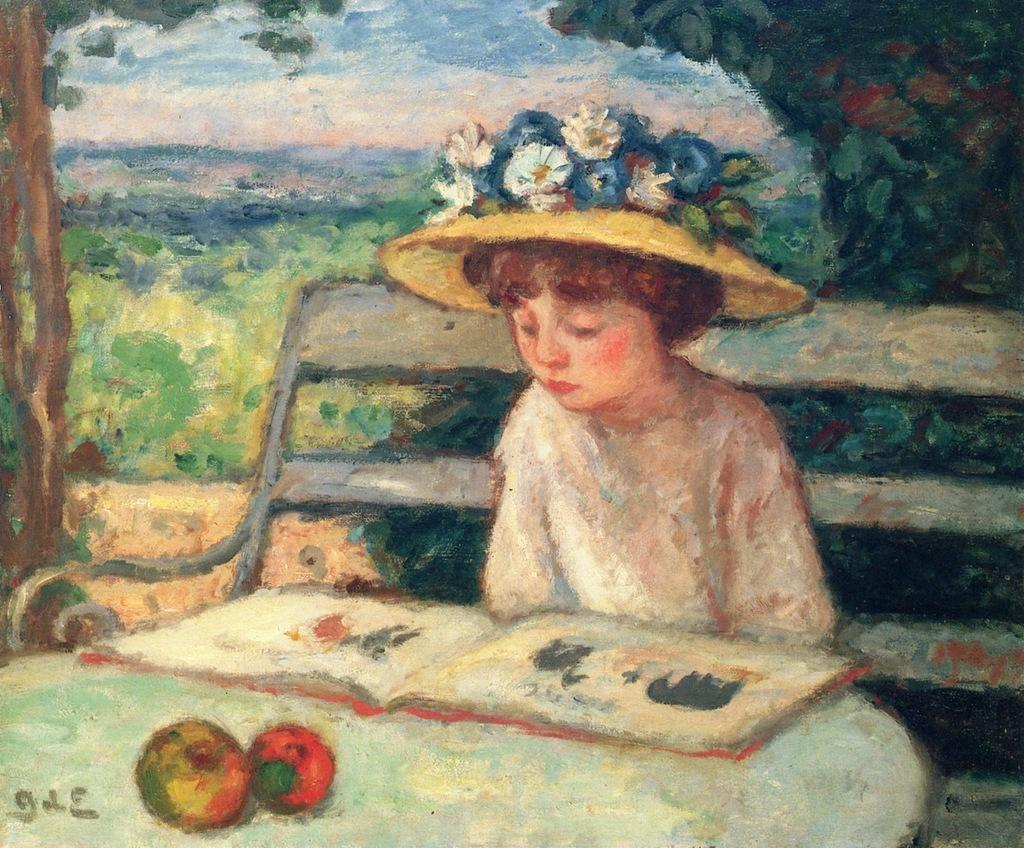Hat: (376, 102, 806, 315)
